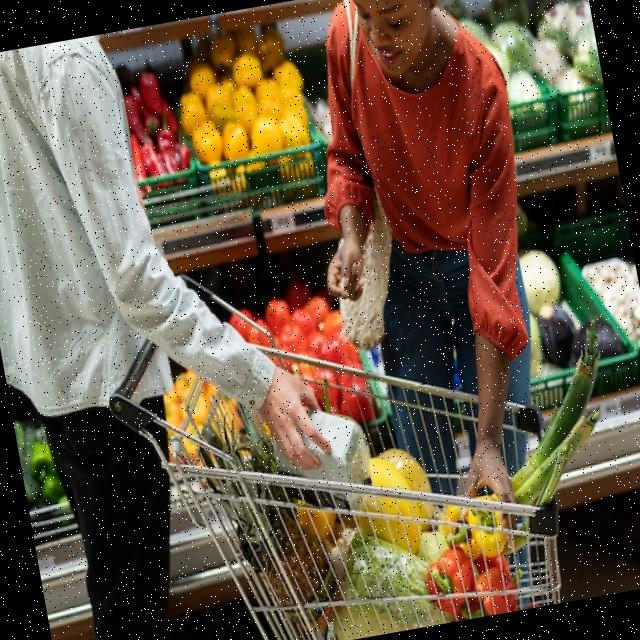Person: (0, 7, 363, 640), (277, 0, 577, 524)
